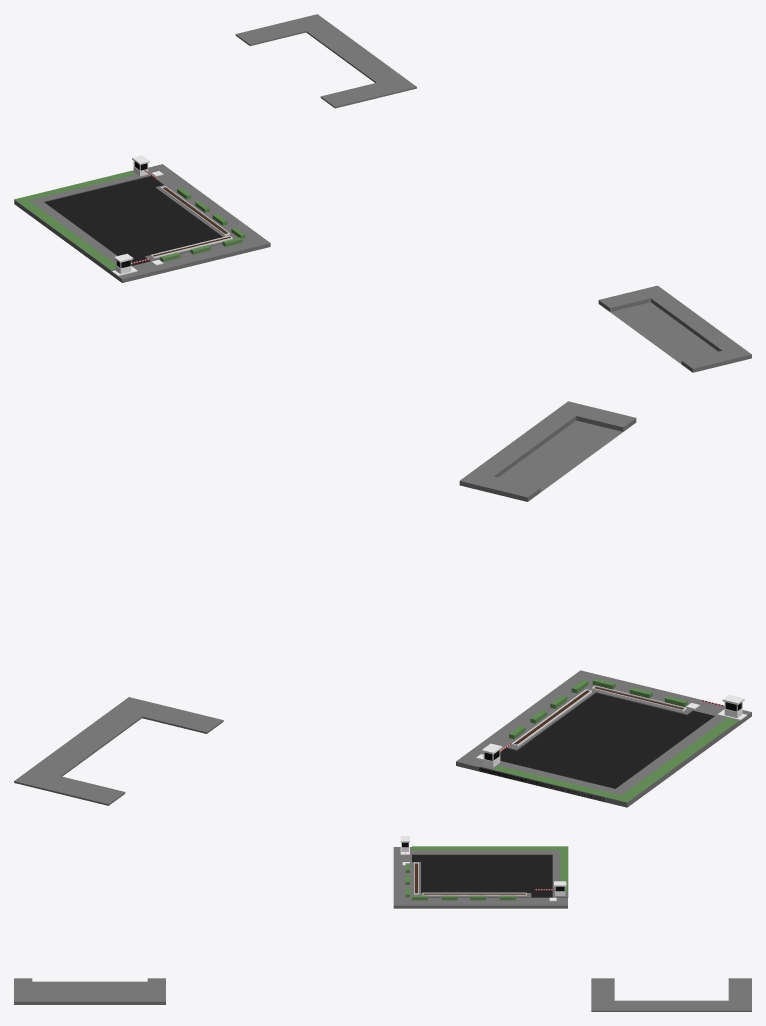
The model's file is parkinglot.fbx.
3 views of the same model, one above another, from view 1: azimuth 30°, elevation 25°; view 2: azimuth 150°, elevation 25°; view 3: azimuth 270°, elevation 25° (orthographic). The views are drawn at different scales.
Parts seen in each view (by area): view 1: airport, Cube.113, Plane.136, airport.011, airport.021, airport.003, airport.012, airport.009; view 2: airport, Cube.113, Plane.136, airport.011, airport.021, airport.003, airport.012, airport.009; view 3: airport, Cube.113, Plane.136, airport.011, airport.021, airport.003, airport.012, airport.009.
Part boxes in pixels (x1,y1,x2,y2): airport: (44, 176, 222, 265); Cube.113: (598, 285, 751, 372); Plane.136: (235, 14, 416, 108); airport.011: (14, 164, 270, 282); airport.021: (14, 171, 245, 269); airport.003: (14, 170, 150, 270); airport.012: (150, 186, 232, 258); airport.009: (114, 155, 157, 273); airport: (479, 693, 714, 801); Cube.113: (459, 401, 636, 501); Plane.136: (14, 697, 223, 805); airport.011: (456, 670, 751, 807); airport.021: (493, 678, 738, 802); airport.003: (479, 715, 738, 803); airport.012: (511, 685, 686, 746); airport.009: (481, 694, 744, 767); airport: (412, 855, 552, 897); Cube.113: (14, 978, 165, 1004); Plane.136: (591, 978, 751, 1011); airport.011: (393, 847, 567, 908); airport.021: (405, 846, 567, 900); airport.003: (412, 846, 568, 897); airport.012: (414, 862, 526, 895); airport.009: (400, 836, 566, 895).
Bounding box in the file's own units: 4.23 × 0.1774 × 8.03.
